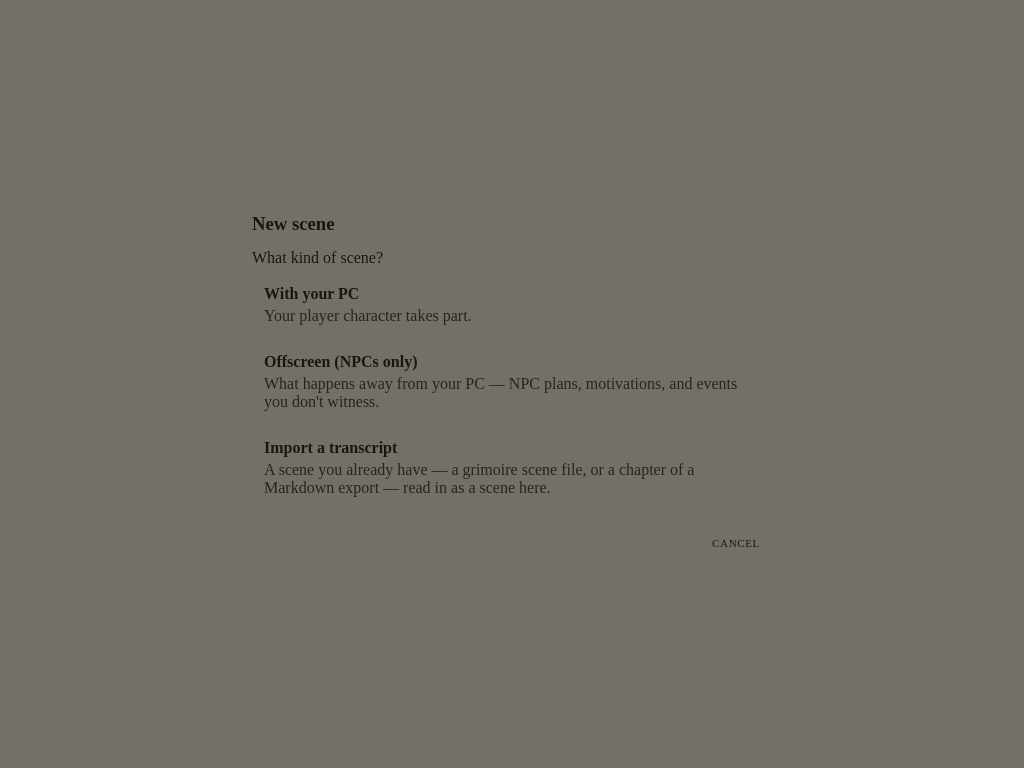
it: picking a mode asks the ranked question, which is what fills the picker
The width and height of the screenshot is (1024, 768).
Click the text "With your PC".
click(312, 294)  # box [264,285,359,303]
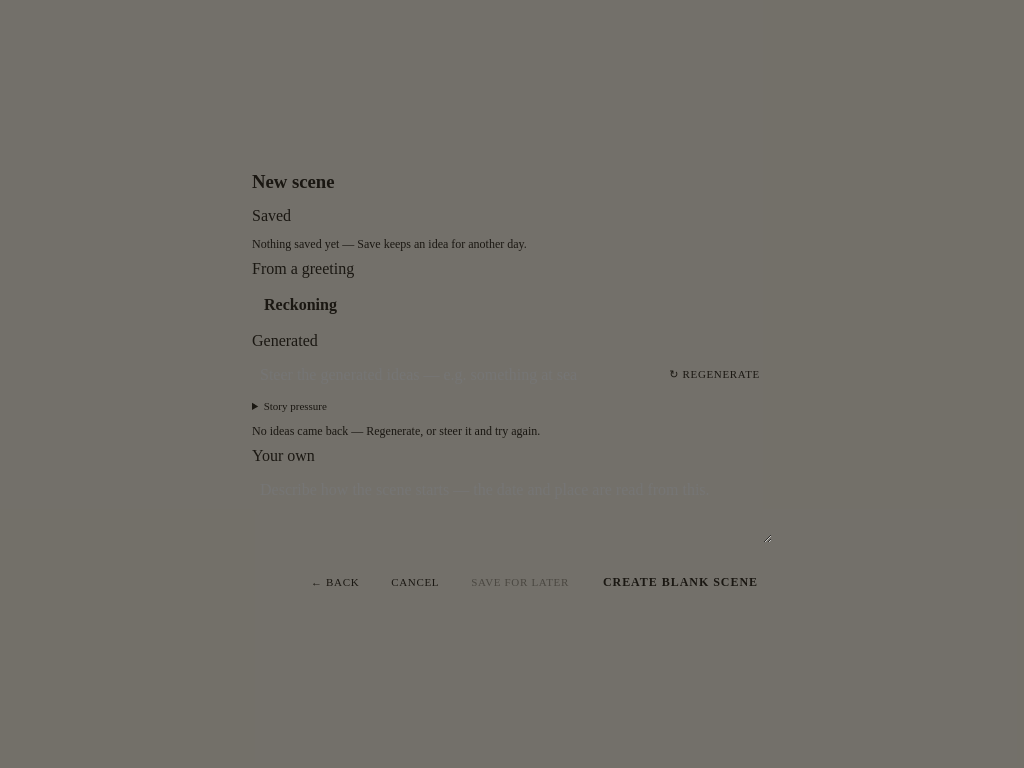
Result: the button "Create blank scene" is shown at [589,566,772,598]
Result: the button "↻ Regenerate" is shown at [657,358,772,392]
